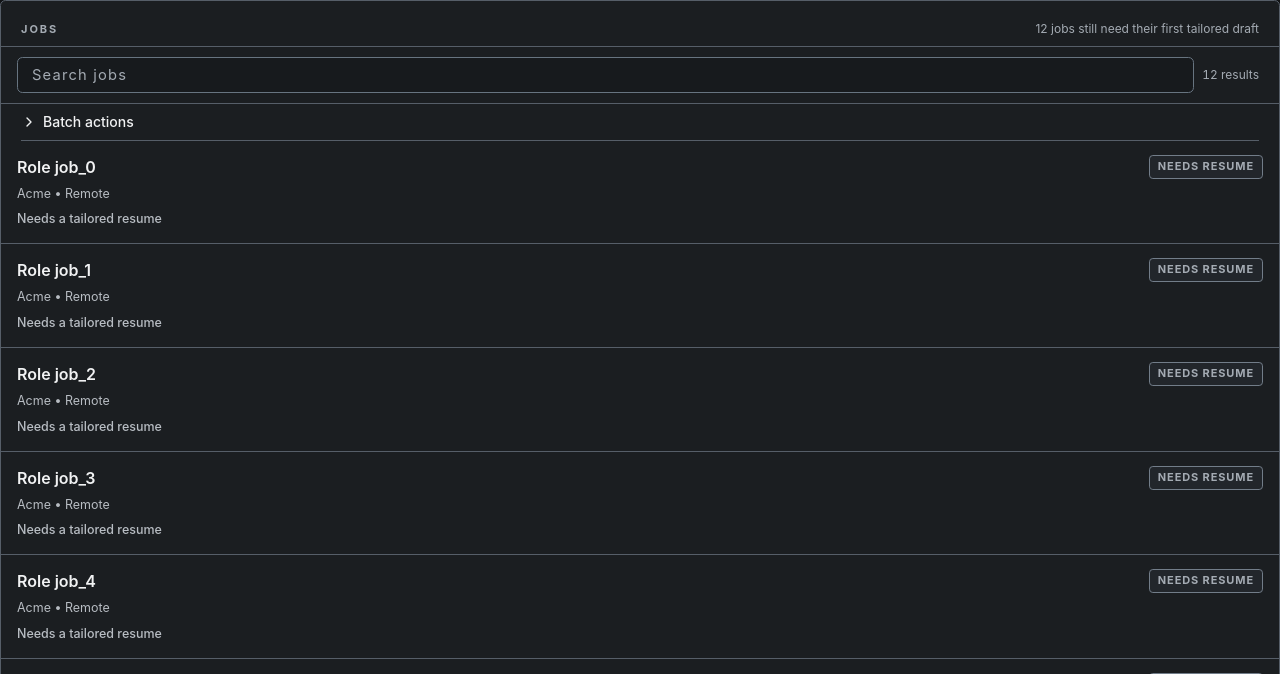
Test: ReviewQueueListPanel › states the remaining eligible count after a capped successful run
The image size is (1280, 674).
Click the heading "Batch actions" at point(77, 121), box [21,112,134,130]
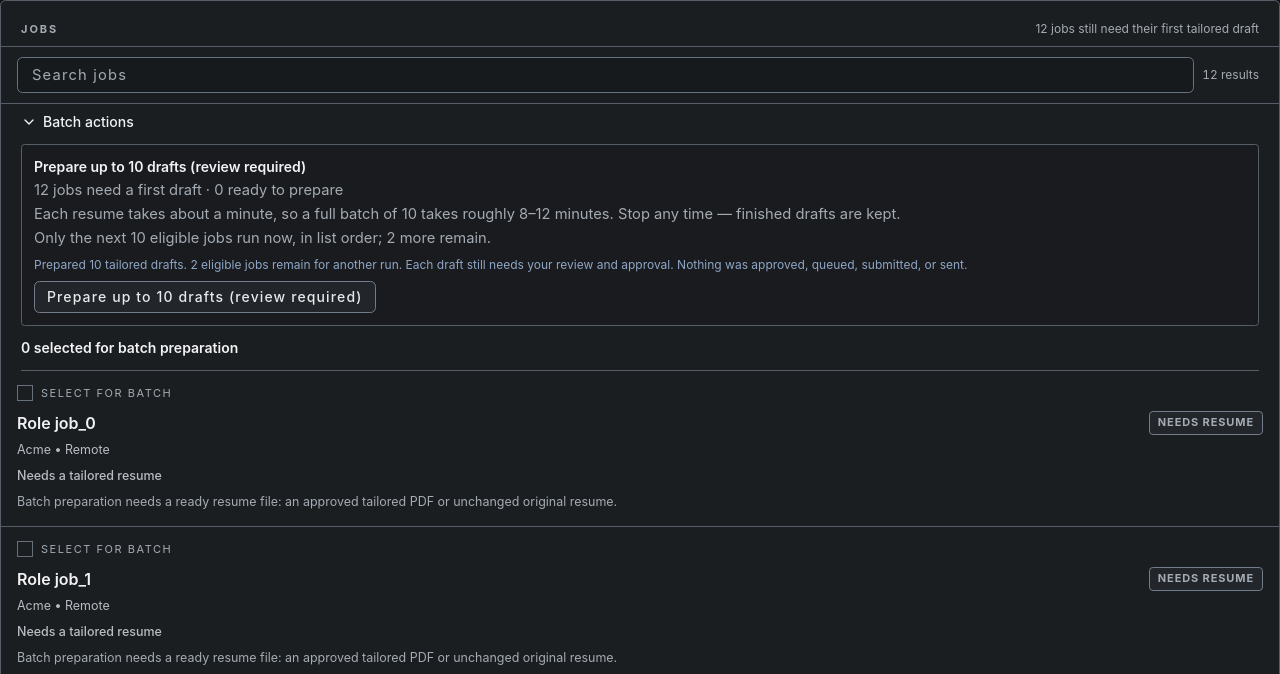
expect the message shows "Prepared 10 tailored drafts": met, box [34,257,968,272]
expect the message shows "2 eligible jobs remain": met, box [34,257,968,272]
expect the message shows "nothing was approved, queued, submitted, or sent": met, box [34,257,968,272]
